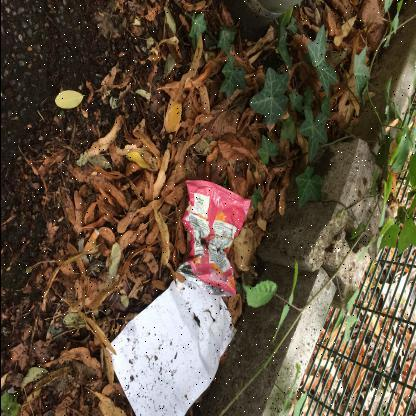paper: (103, 271, 235, 415)
plastic: (175, 177, 250, 298)
